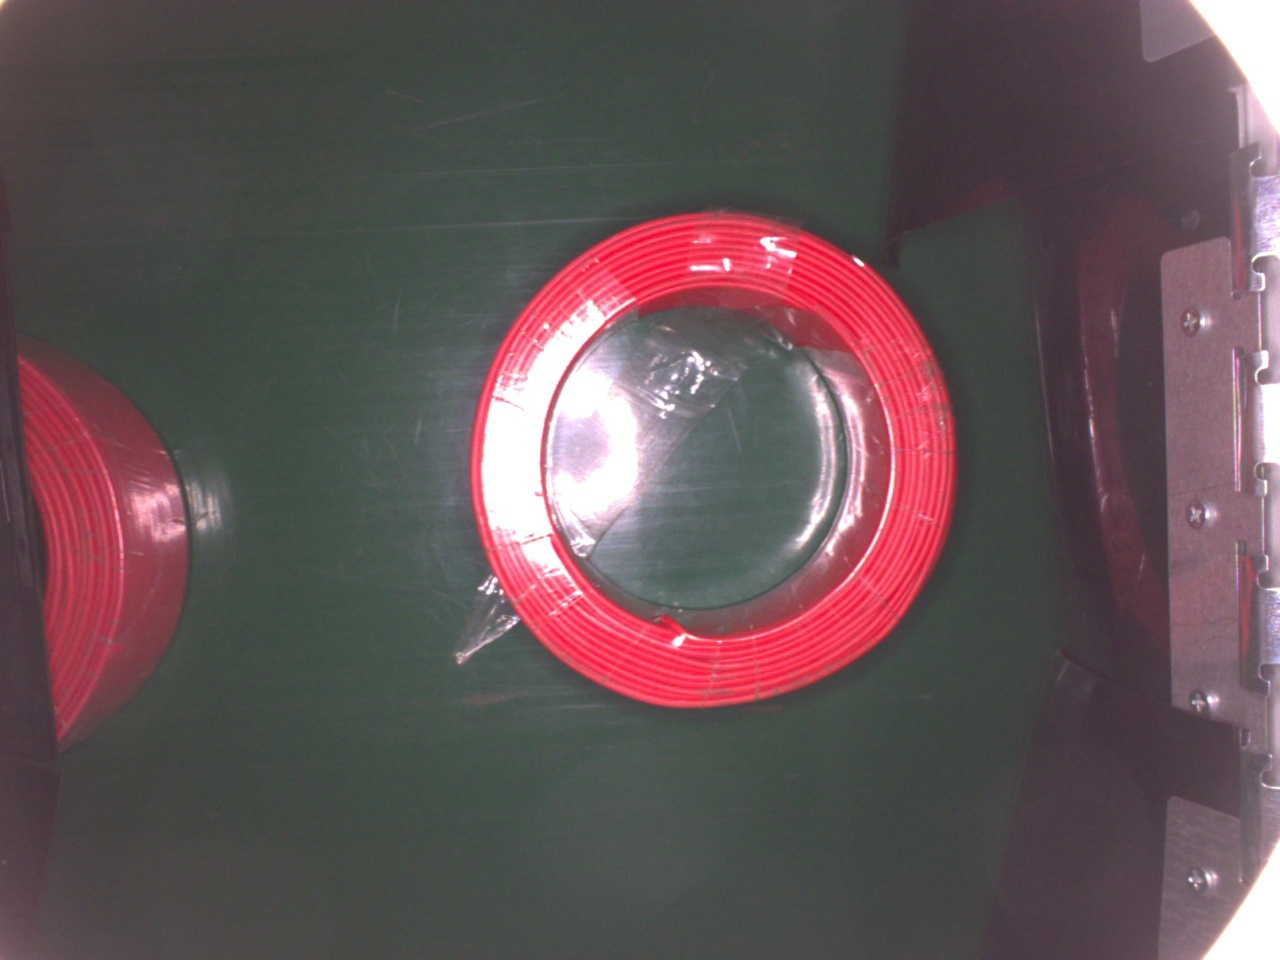red: (466, 208, 962, 712), (15, 336, 195, 756)
